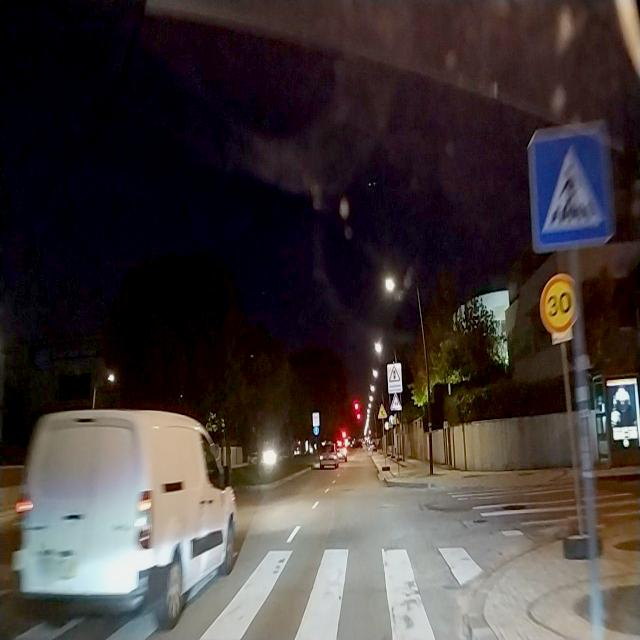car: (10, 407, 237, 633), (0, 461, 26, 570), (318, 442, 339, 471), (336, 445, 348, 463)
